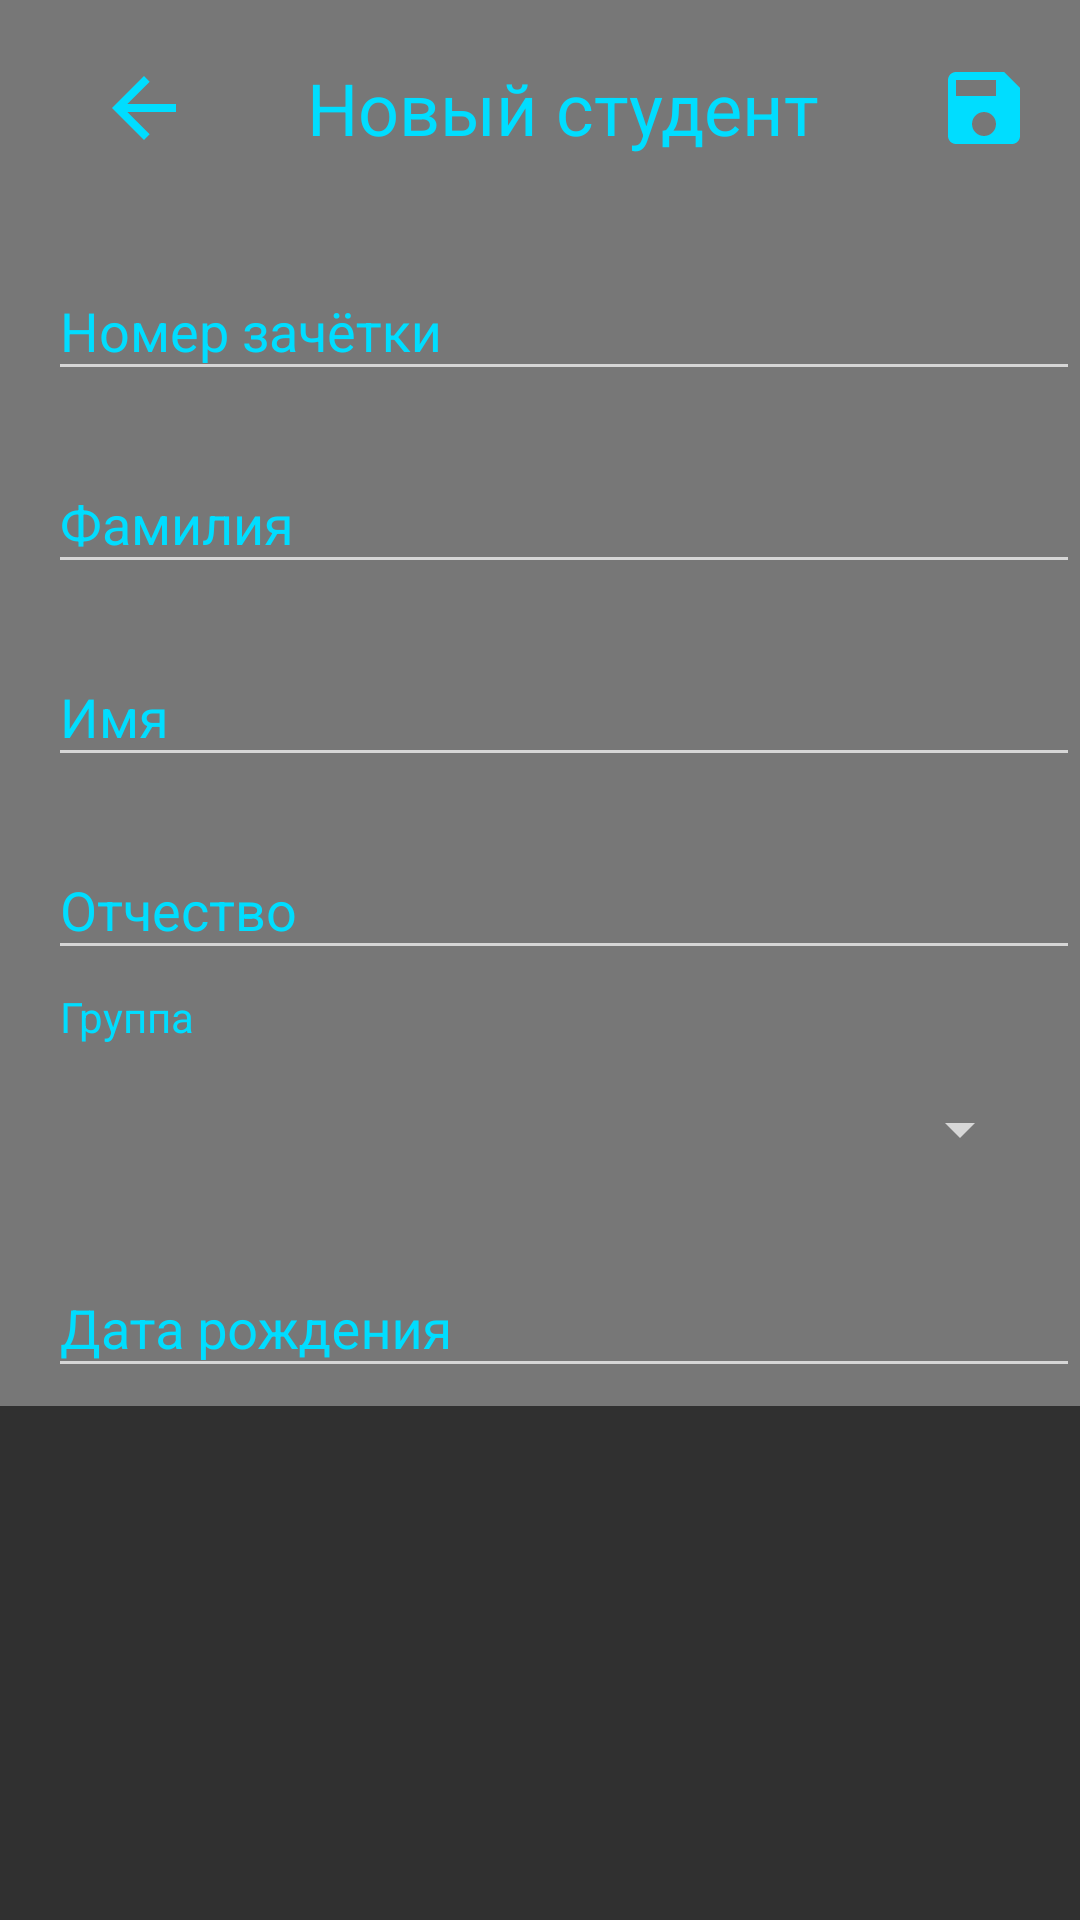

Where icons sit on this 1080 × 1920 app screen, as (x1, y1, x2, y2):
arrow back: (112, 76, 176, 140)
save: (948, 72, 1020, 144)
